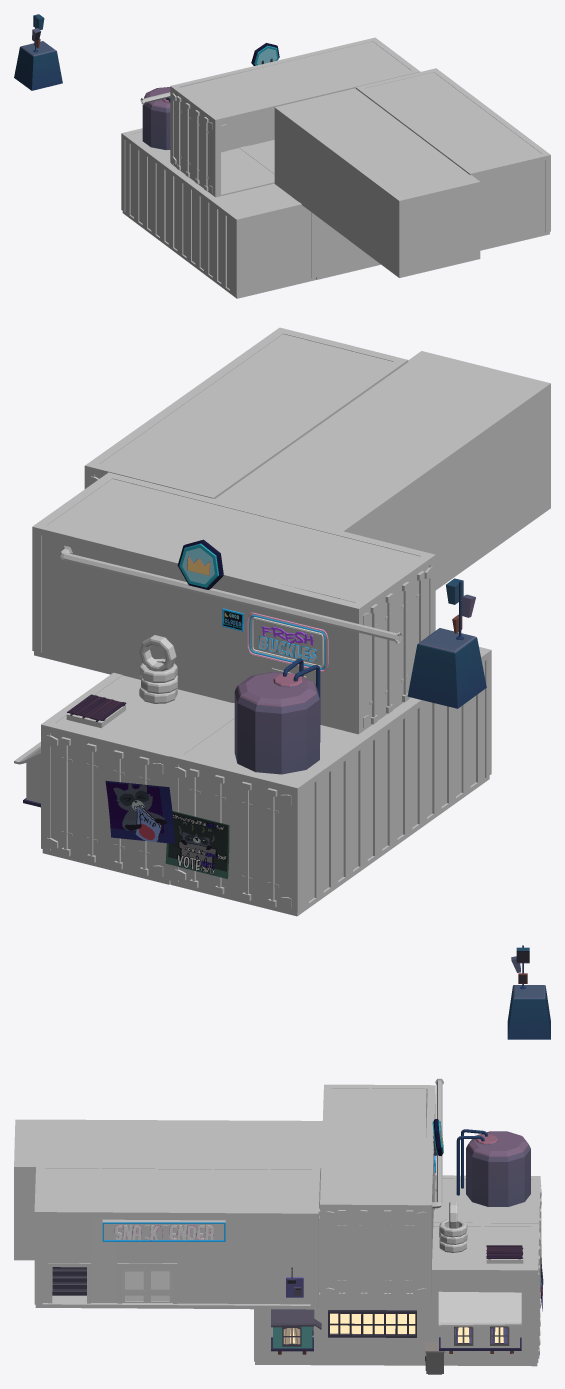
The model's file is CMSnackTender.fbx.
The picture shows the model from 3 angles, top to bottom: view 1: azimuth 30°, elevation 25°; view 2: azimuth 150°, elevation 25°; view 3: azimuth 270°, elevation 25°; orthographic projection. The views are drawn at different scales.
Parts seen in each view (by area): view 1: Crates.064, BoxCrate.056, BoxCrate.016, BoxCrate.003, Transformer.003, WaterTank.002, Buckle_Single.008; view 2: BoxCrate.016, BoxCrate.056, Crates.064, BoxCrate.003, WaterTank.002, Poster.150, Transformer.003, Pipes.005, FreshBuckles, Tirestack.018, Buckle_Single.008, ConcreteSlab.002 (+1 smaller); view 3: BoxCrate.003, BoxCrate.016, BoxCrate.056, Crates.064, WaterTank.002, BuildingAddons.004, SnackTenderSign, Transformer.003, Windows.104, BuildingAddons.005, Tirestack.018, Stairs.036 (+5 smaller).
Boxes of the visible parts, left/top/right/bottom form: Crates.064: left=274, top=88, right=480, bottom=277; BoxCrate.056: left=121, top=128, right=380, bottom=298; BoxCrate.016: left=170, top=37, right=420, bottom=197; BoxCrate.003: left=355, top=68, right=550, bottom=250; Transformer.003: left=14, top=14, right=62, bottom=90; WaterTank.002: left=142, top=87, right=170, bottom=150; Buckle_Single.008: left=251, top=43, right=279, bottom=65; BoxCrate.016: left=32, top=472, right=435, bottom=734; BoxCrate.056: left=41, top=647, right=491, bottom=916; Crates.064: left=215, top=351, right=550, bottom=602; BoxCrate.003: left=84, top=327, right=408, bottom=498; WaterTank.002: left=234, top=658, right=320, bottom=774; Poster.150: left=105, top=781, right=229, bottom=878; Transformer.003: left=407, top=578, right=486, bottom=708; Pipes.005: left=59, top=545, right=401, bottom=643; FreshBuckles: left=247, top=612, right=328, bottom=671; Tirestack.018: left=139, top=635, right=177, bottom=703; Buckle_Single.008: left=177, top=539, right=223, bottom=589; ConcreteSlab.002: left=66, top=694, right=126, bottom=728; BoxCrate.003: left=34, top=1164, right=320, bottom=1309; BoxCrate.016: left=320, top=1084, right=435, bottom=1300; BoxCrate.056: left=254, top=1175, right=541, bottom=1366; Crates.064: left=14, top=1119, right=322, bottom=1260; WaterTank.002: left=456, top=1129, right=530, bottom=1206; BuildingAddons.004: left=438, top=1291, right=521, bottom=1353; SnackTenderSign: left=102, top=1219, right=225, bottom=1241; Transformer.003: left=507, top=945, right=550, bottom=1039; Windows.104: left=328, top=1310, right=416, bottom=1337; BuildingAddons.005: left=271, top=1309, right=321, bottom=1354; Tirestack.018: left=439, top=1201, right=467, bottom=1252; Stairs.036: left=52, top=1267, right=86, bottom=1295.
Size of the model in its own units: 3904 by 2561 by 4580.
